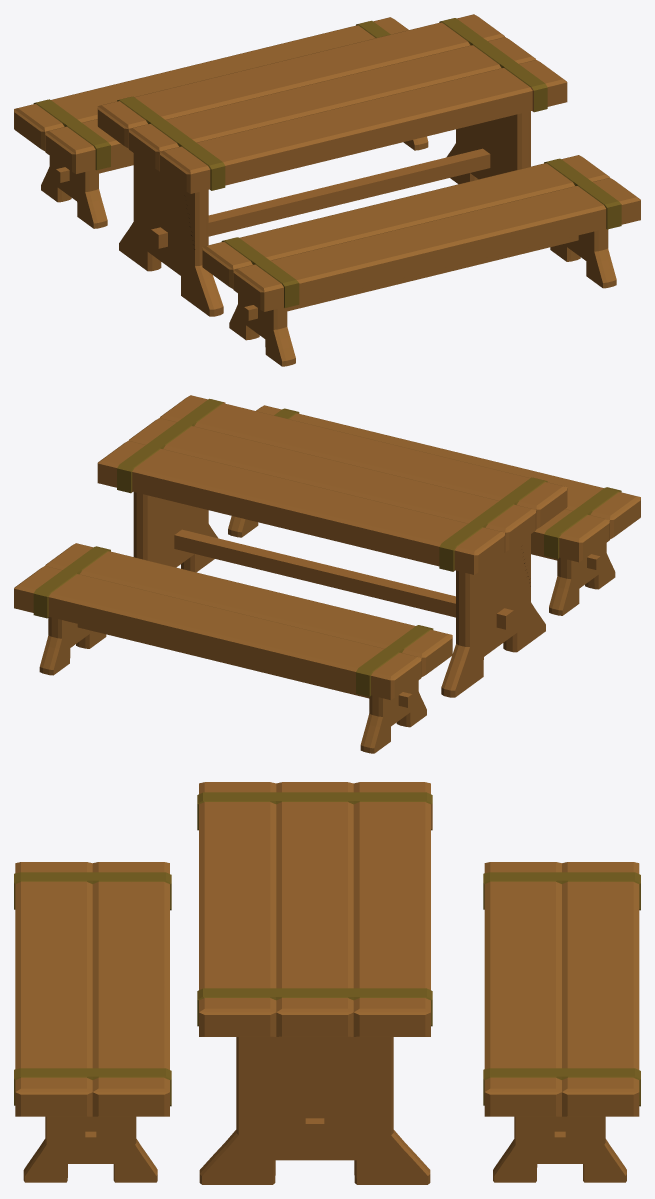
Rendered from mesas.fbx.
3 renders of one model, top to bottom at view 1: azimuth 30°, elevation 25°; view 2: azimuth 150°, elevation 25°; view 3: azimuth 270°, elevation 25°, orthographic. The views are drawn at different scales.
Visible parts, largest first — view 1: mesa.023; view 2: mesa.023; view 3: mesa.023.
Boxes of the visible parts, box(x1,y1,x2,y2) form: mesa.023: box(14, 14, 640, 366); mesa.023: box(14, 395, 640, 753); mesa.023: box(14, 782, 640, 1184).
Size of the model in its own units: 202 by 76.66 by 231.
